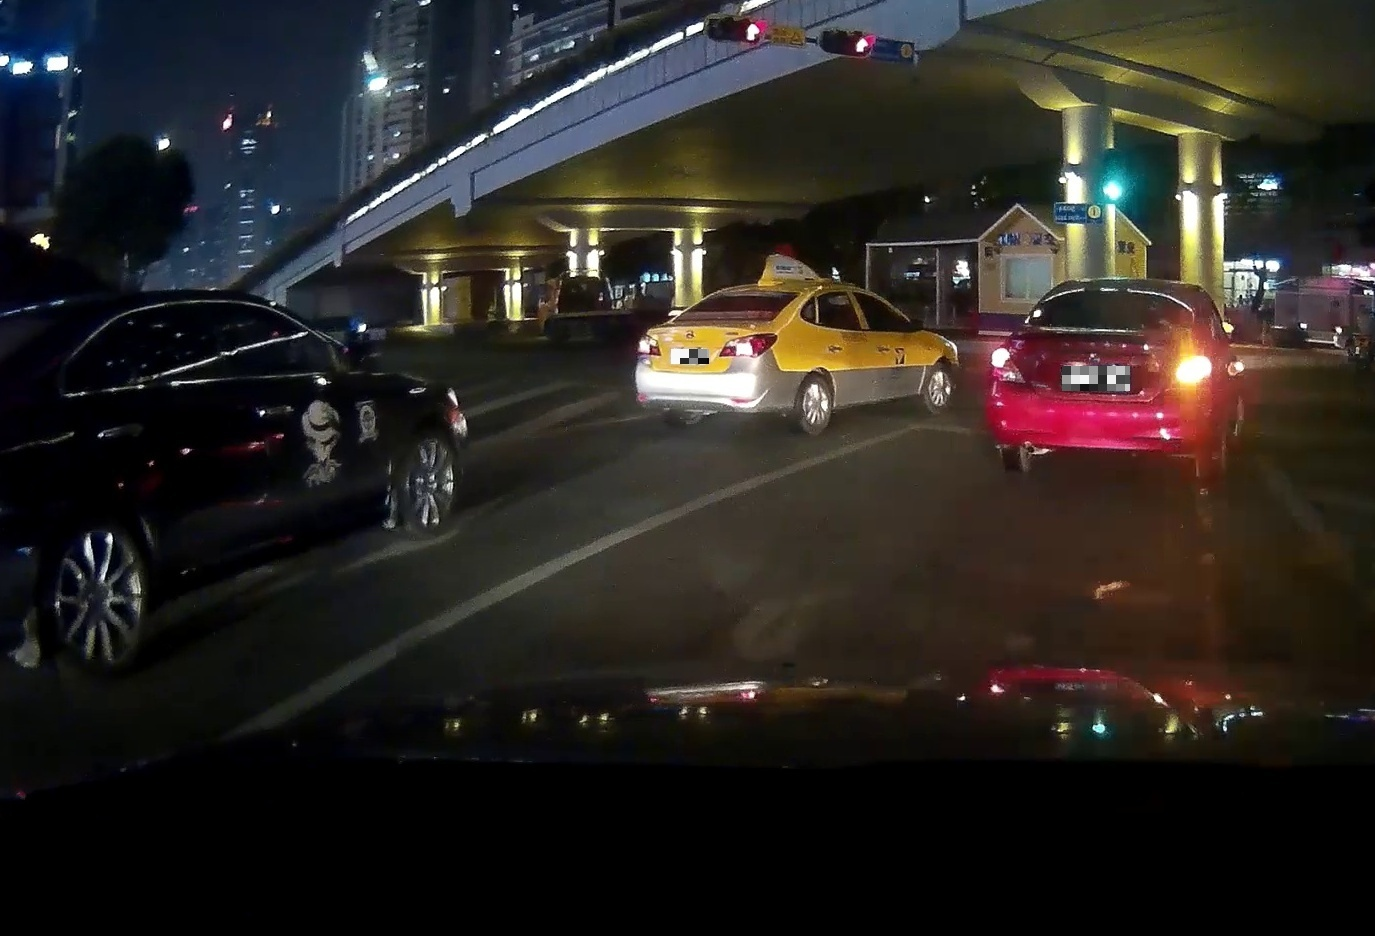L_light: (991, 345, 1027, 387), (636, 333, 660, 358)
R_light: (1166, 345, 1213, 387), (718, 331, 777, 359)
T_light: (1094, 285, 1126, 295), (746, 286, 772, 294)
night-no: (633, 281, 815, 427)
night-right: (986, 276, 1226, 479)
plate_1: (671, 349, 709, 364)
plate_2: (1062, 366, 1131, 391)
